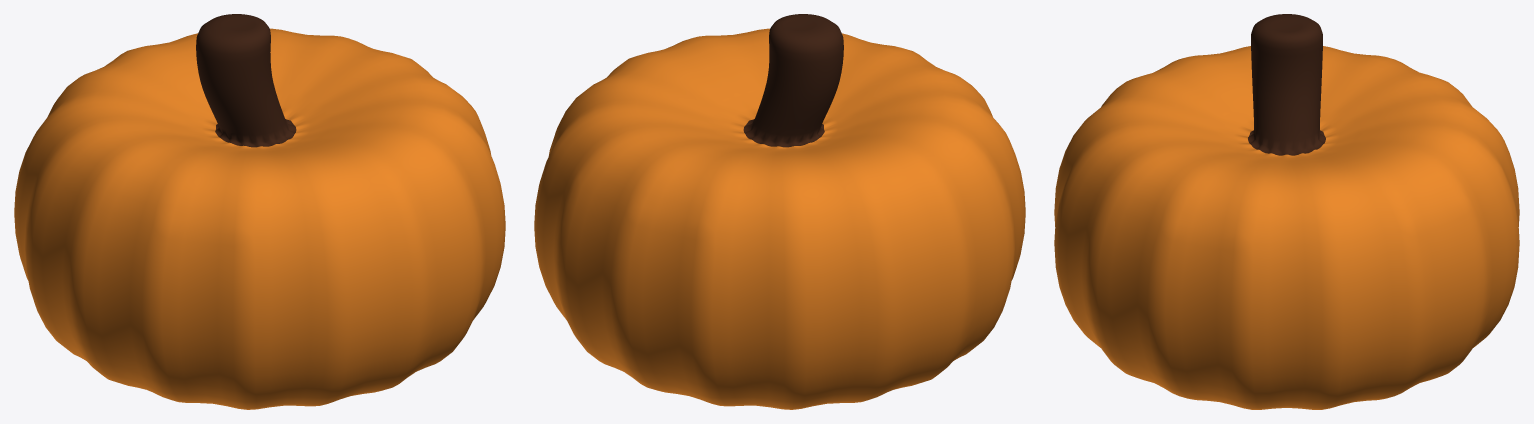
The model's file is Pumpkin.glb.
3 renders of one model, left to right at view 1: azimuth 30°, elevation 25°; view 2: azimuth 150°, elevation 25°; view 3: azimuth 270°, elevation 25°, orthographic. The views are drawn at different scales.
Visible parts, largest first — view 1: Sphere; view 2: Sphere; view 3: Sphere.
Boxes of the visible parts, x1,y1,x2,y2 form: Sphere: [14, 14, 505, 409]; Sphere: [534, 14, 1025, 409]; Sphere: [1054, 14, 1519, 409].
Size of the model in its own units: 1.82 by 1.32 by 1.82.
